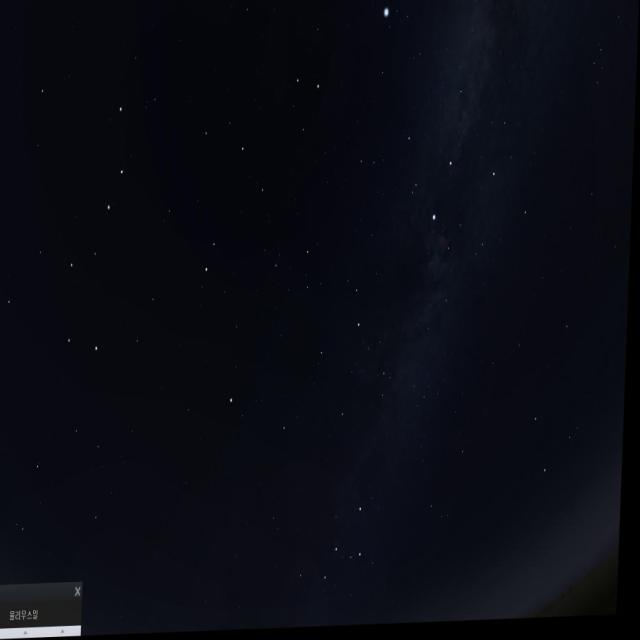cassiopeia: (288, 478, 386, 617)
cygnus: (404, 15, 504, 237)
ursa_major: (61, 85, 138, 352)
